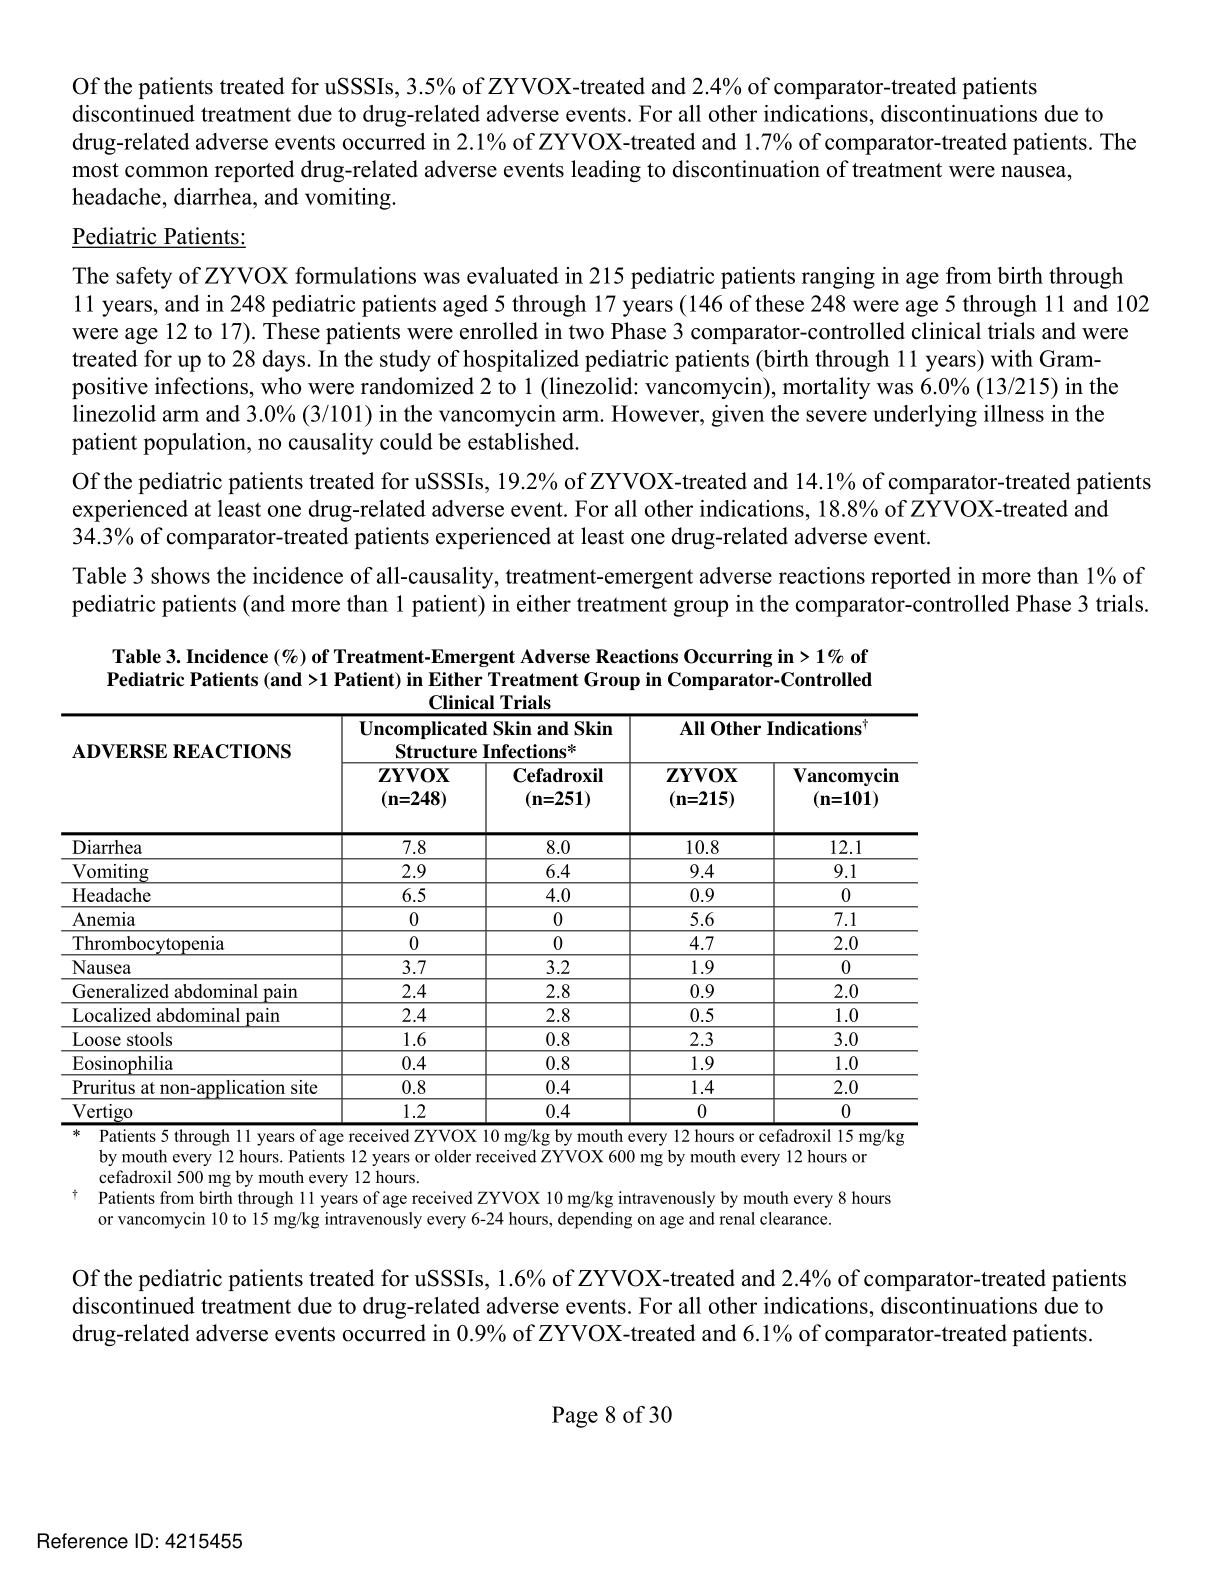partial_lined_merged_cells: (58, 711, 921, 1128)
